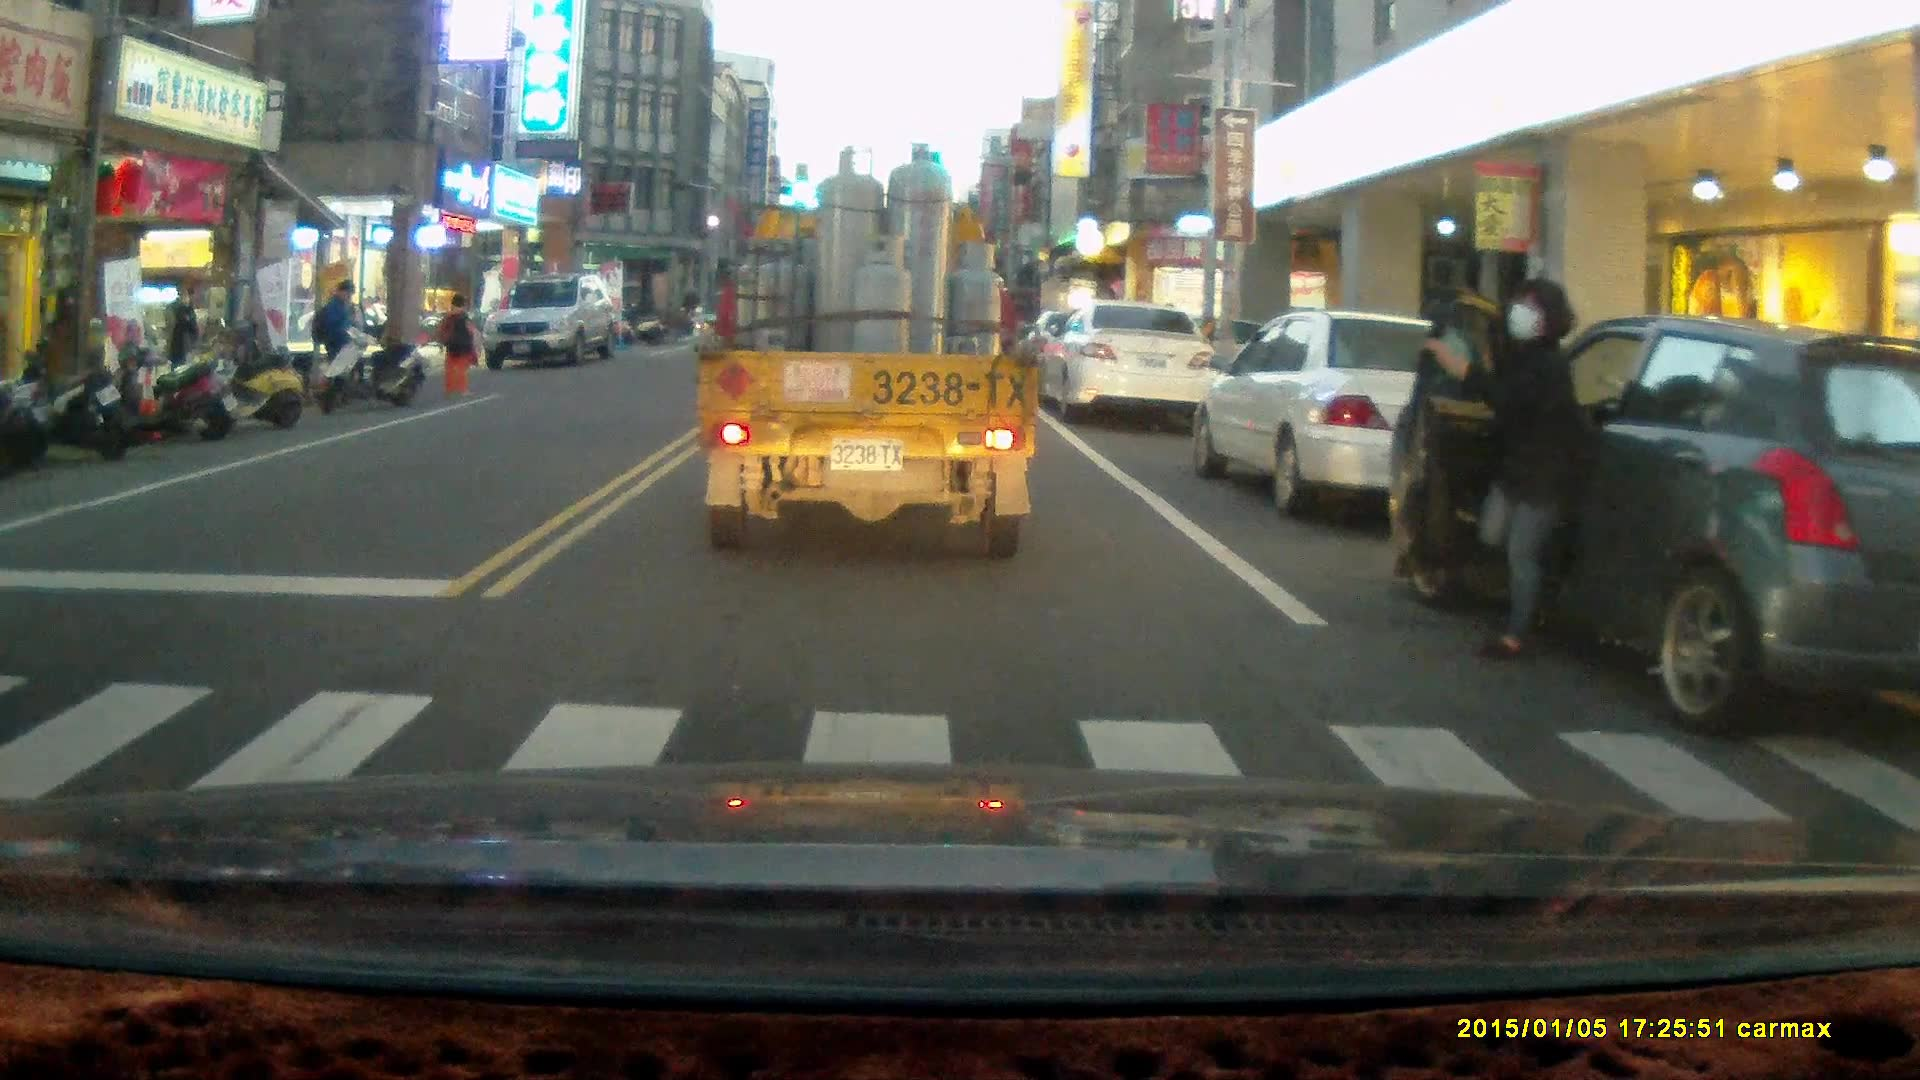pedestrian: (1423, 276, 1588, 667), (310, 278, 358, 400), (162, 285, 201, 407), (435, 291, 475, 394)
vehicle: (1400, 318, 1920, 728), (694, 137, 1047, 563), (1200, 314, 1546, 521), (1049, 303, 1229, 426), (484, 281, 621, 372)
